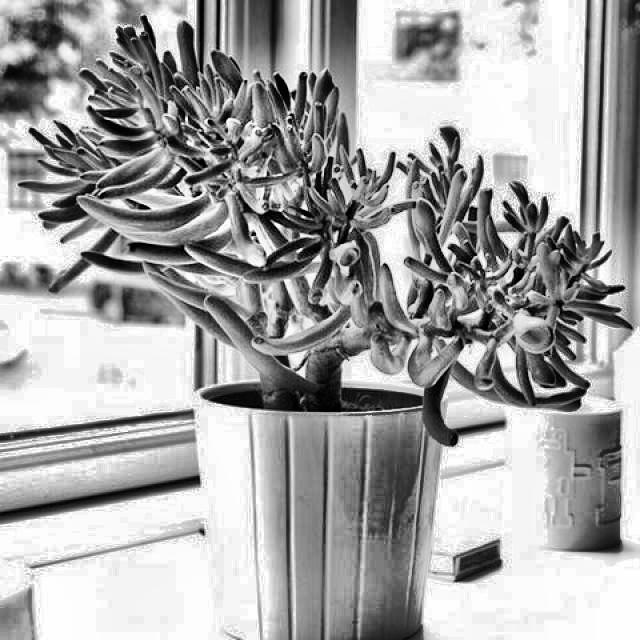plants: (45, 41, 516, 639)
